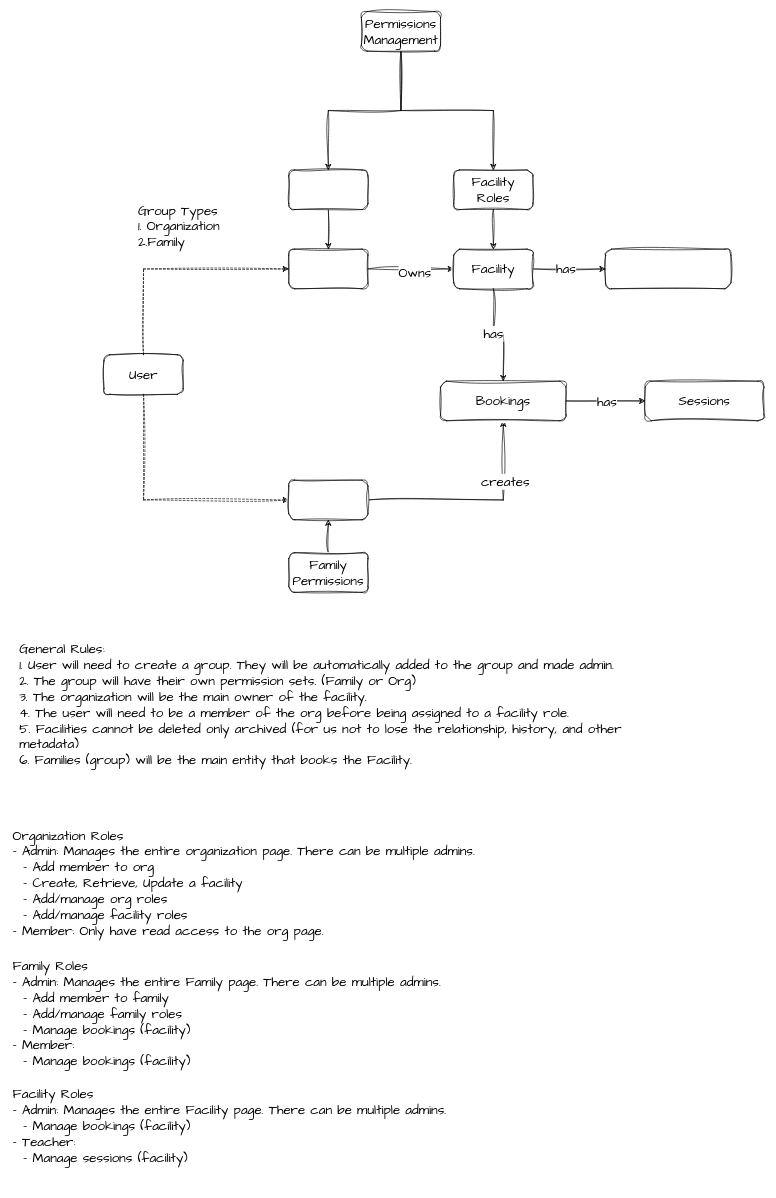
This 776x1198 diagram has some shape labels left out. Here are the shapes that lost their labels. From the top down, the box of each, then its label:
(288, 169, 368, 210): Organization Roles
(288, 248, 368, 289): Organization
(605, 248, 731, 289): FacilityProperties
(288, 479, 368, 520): Family
